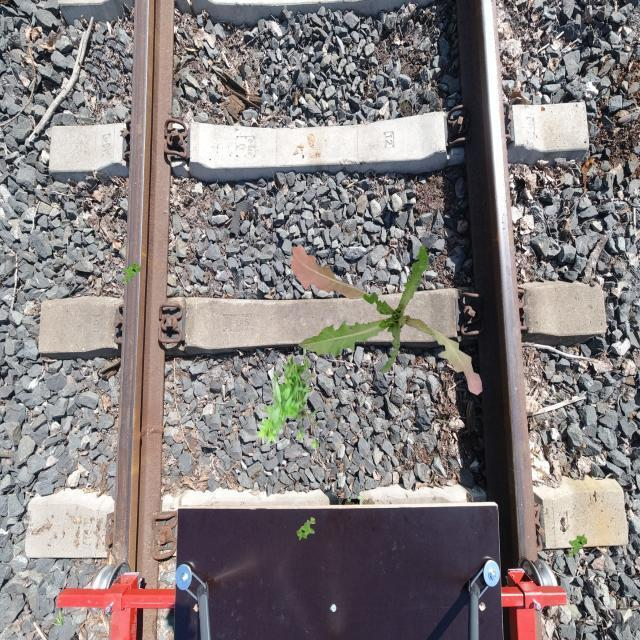Plant: (290, 244, 482, 396), (255, 344, 320, 452), (296, 517, 316, 542), (568, 533, 588, 558), (122, 260, 142, 284), (52, 610, 66, 626)
